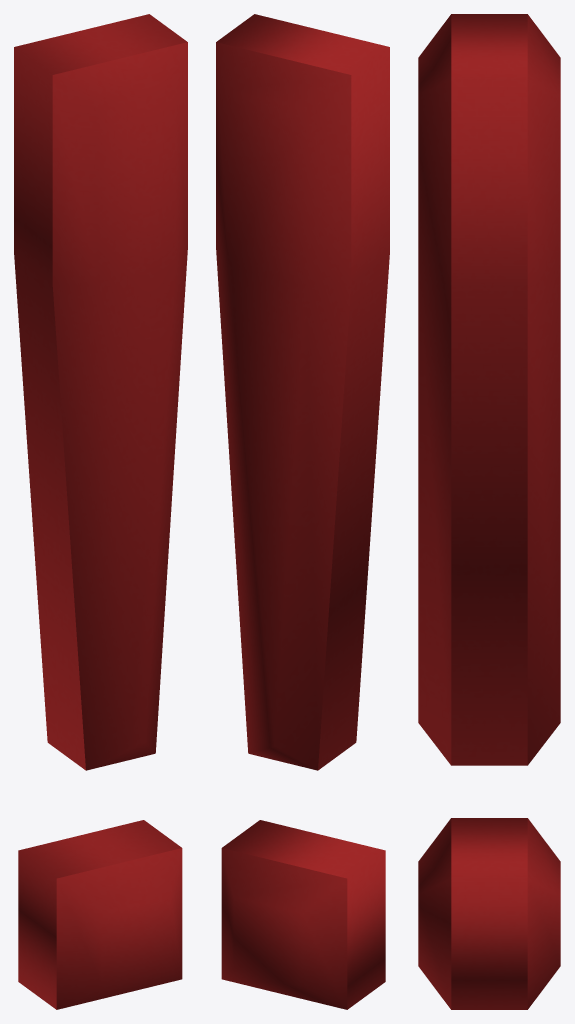
Rendered from TXL0310002.fbx.
3 views of the same model, side by side, from view 1: azimuth 30°, elevation 25°; view 2: azimuth 150°, elevation 25°; view 3: azimuth 270°, elevation 25° (orthographic).
Parts seen in each view (by area): view 1: smTXL0310002; view 2: smTXL0310002; view 3: smTXL0310002.
Part boxes in pixels (x1,y1,x2,y2): smTXL0310002: (14,14,187,1009); smTXL0310002: (216,14,389,1009); smTXL0310002: (418,14,560,1009).
Size of the model in its own units: 16.16 by 107 by 14.77.
1 material, 1 textured.
